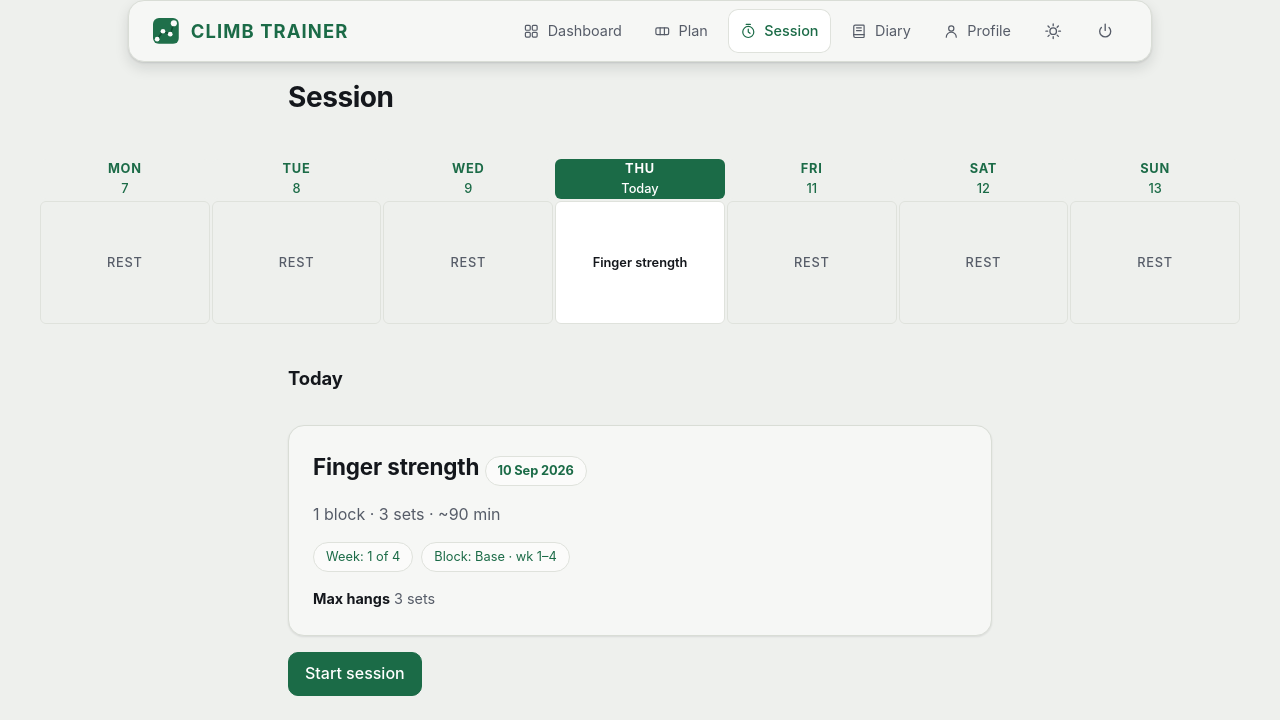
sends every set exactly once on Finish, with no gaps and no duplicates
(page scrolled)
Click the button "Start session": (355, 674) [288,652,422,696]
Wait 60 ms
(page scrolled)
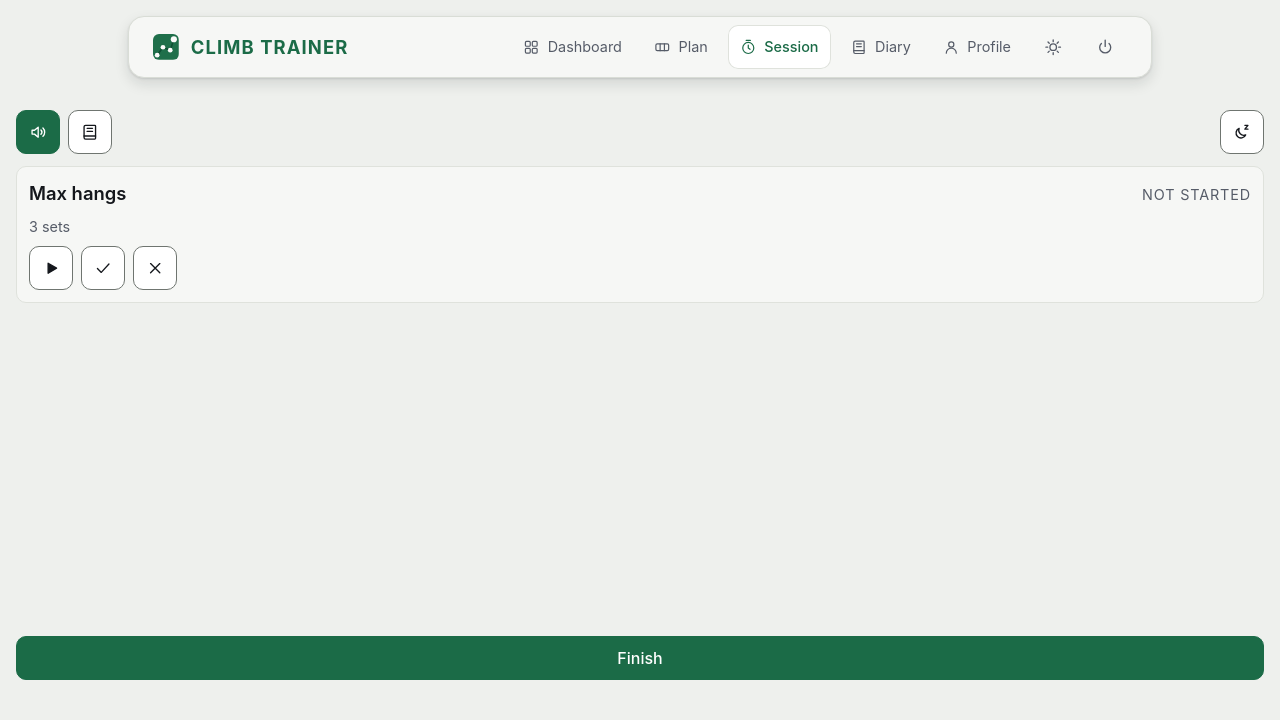
Click the button named "Start Max hangs": (51, 268) [29,246,73,290]
Wait 120 ms
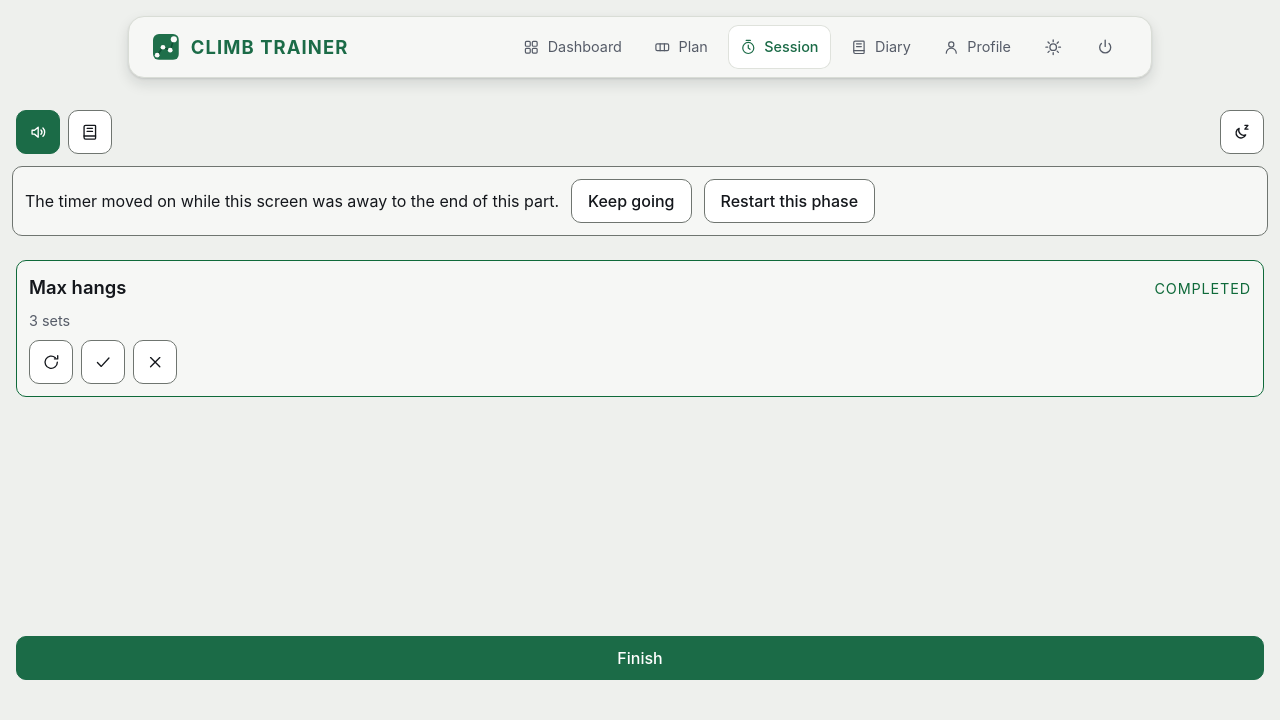
Click the button "Finish": (640, 658) [16,636,1264,680]
Wait 60 ms
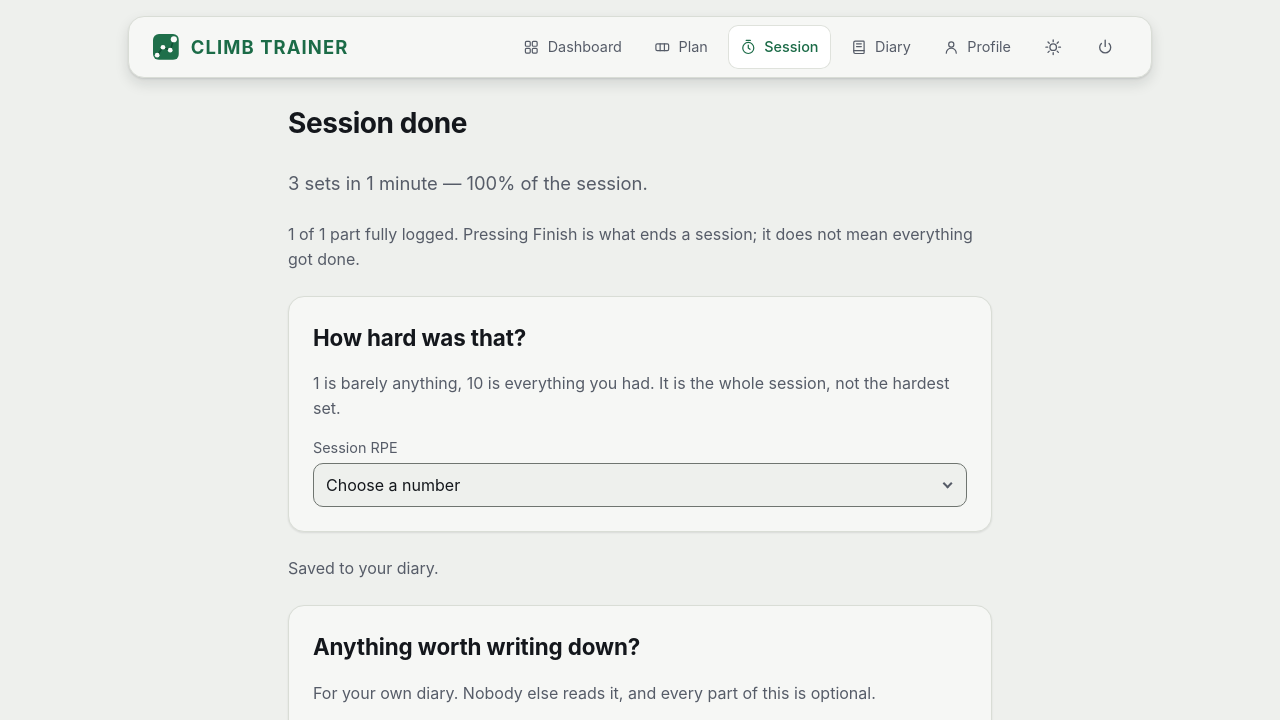
Result: the heading "Session done" is shown at [288,106,467,140]
Result: the text "Saved to your diary." is shown at [288,558,439,578]
